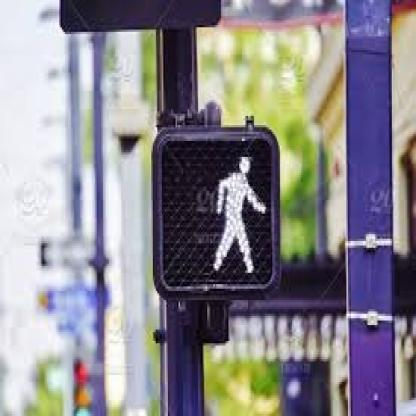Walk: (154, 132, 281, 290)
